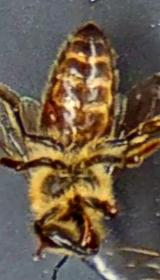varroa_mite: (29, 90, 64, 128)
